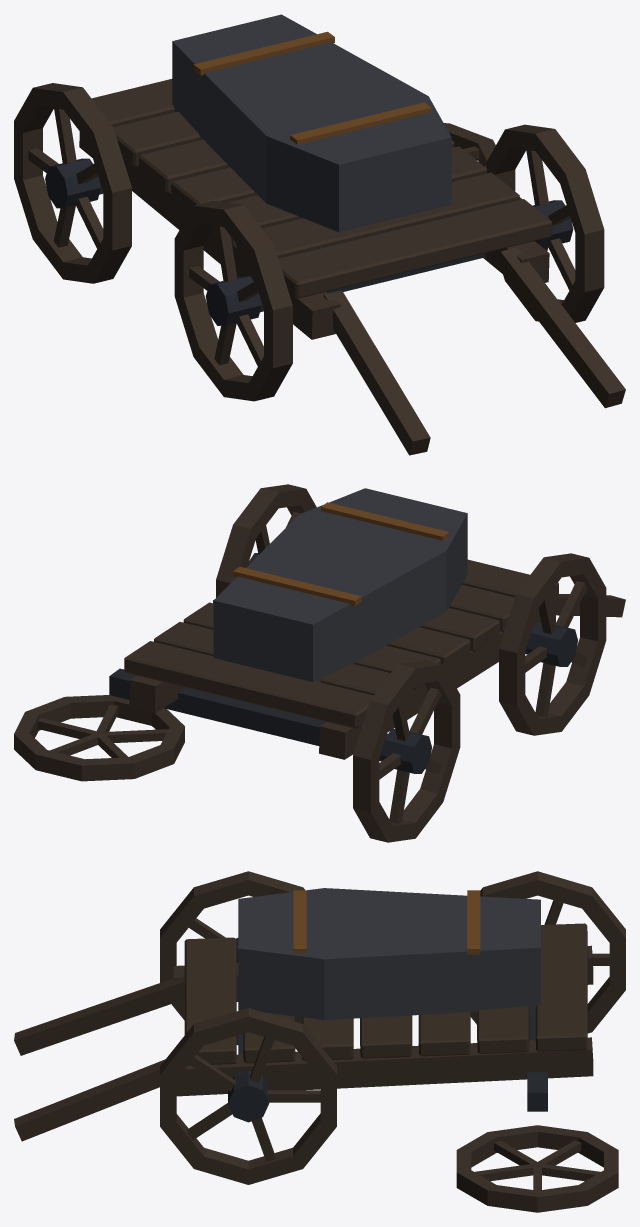
The model's file is Fallen_Funeral_Wagon.glb.
The picture shows the model from 3 angles, top to bottom: view 1: azimuth 30°, elevation 25°; view 2: azimuth 150°, elevation 25°; view 3: azimuth 270°, elevation 25°; orthographic projection. The views are drawn at different scales.
Visible parts, largest first — view 1: Fallen_Funeral_Wagon; view 2: Fallen_Funeral_Wagon; view 3: Fallen_Funeral_Wagon.
Boxes of the visible parts, x1=… form: Fallen_Funeral_Wagon: x1=14, y1=14, x2=625, y2=455; Fallen_Funeral_Wagon: x1=14, y1=484, x2=625, y2=842; Fallen_Funeral_Wagon: x1=14, y1=871, x2=625, y2=1212.
Size of the model in its own units: 2.63 by 1.24 by 3.56.
